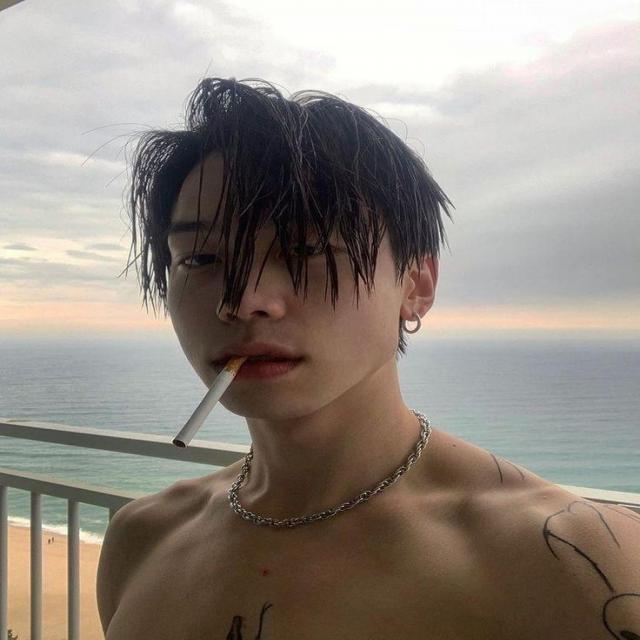cigarette: (137, 326, 261, 474)
